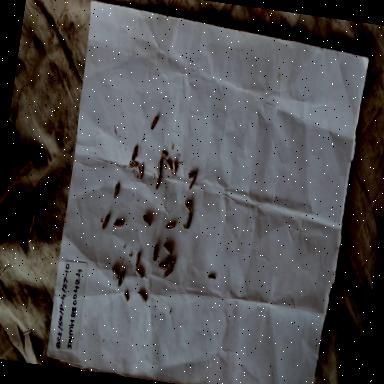pbw: (135, 288, 148, 304), (150, 242, 160, 262), (162, 263, 174, 279), (110, 263, 121, 280), (187, 174, 196, 194), (170, 158, 180, 176), (148, 114, 158, 132), (135, 160, 144, 179), (153, 174, 162, 193), (182, 196, 192, 213), (140, 213, 152, 227), (162, 241, 174, 255), (101, 212, 110, 230), (156, 156, 164, 176), (160, 144, 170, 160), (184, 210, 192, 230), (119, 288, 130, 302), (112, 181, 120, 200), (117, 270, 125, 288), (130, 144, 138, 162), (112, 217, 124, 229), (164, 158, 174, 172), (186, 170, 198, 181), (127, 160, 138, 171), (165, 220, 176, 231), (164, 254, 176, 264), (156, 260, 168, 270), (134, 267, 144, 278), (134, 250, 140, 268), (206, 272, 216, 281)
